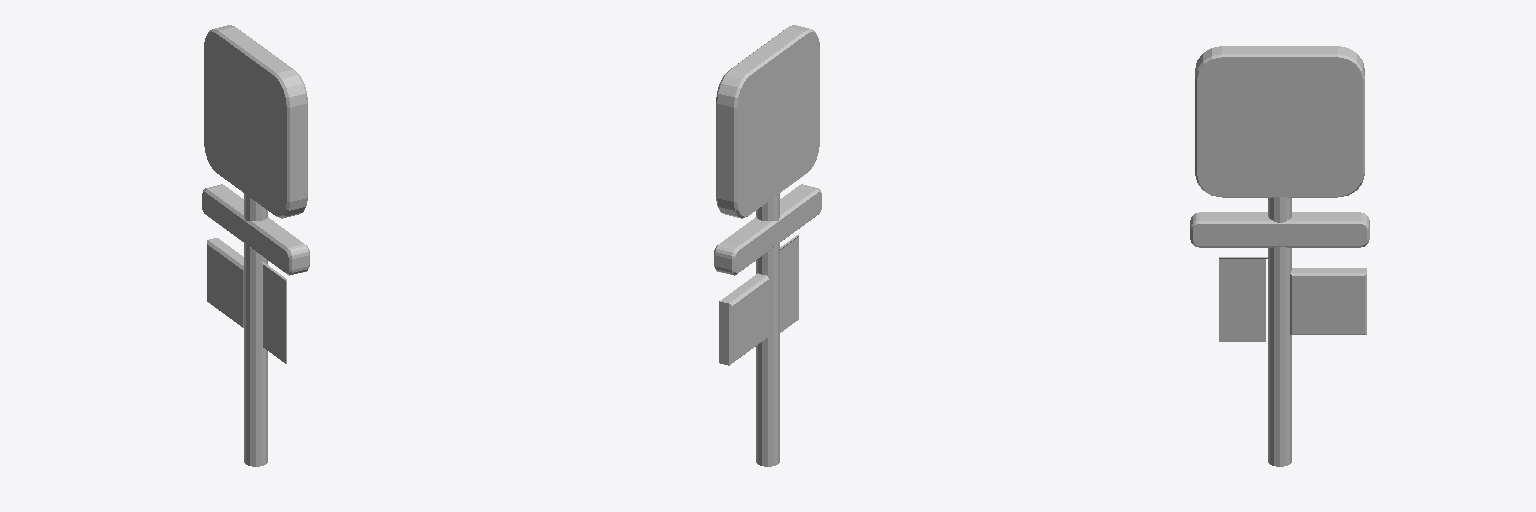
File: sign.obj
3 renders of one model, left to right at view 1: azimuth 30°, elevation 25°; view 2: azimuth 150°, elevation 25°; view 3: azimuth 270°, elevation 25°, orthographic.
Visible parts, largest first — view 1: Plane_001_0 Plane_001_0 Plane_001 Root Sketchfab_model Meshes sc; view 2: Plane_001_0 Plane_001_0 Plane_001 Root Sketchfab_model Meshes sc; view 3: Plane_001_0 Plane_001_0 Plane_001 Root Sketchfab_model Meshes sc.
Part boxes in pixels (x1,y1,x2,y2): Plane_001_0 Plane_001_0 Plane_001 Root Sketchfab_model Meshes sc: (202,25,309,466); Plane_001_0 Plane_001_0 Plane_001 Root Sketchfab_model Meshes sc: (714,25,821,466); Plane_001_0 Plane_001_0 Plane_001 Root Sketchfab_model Meshes sc: (1190,46,1369,466).
Size of the model in its own units: 73.17 by 1350 by 532.